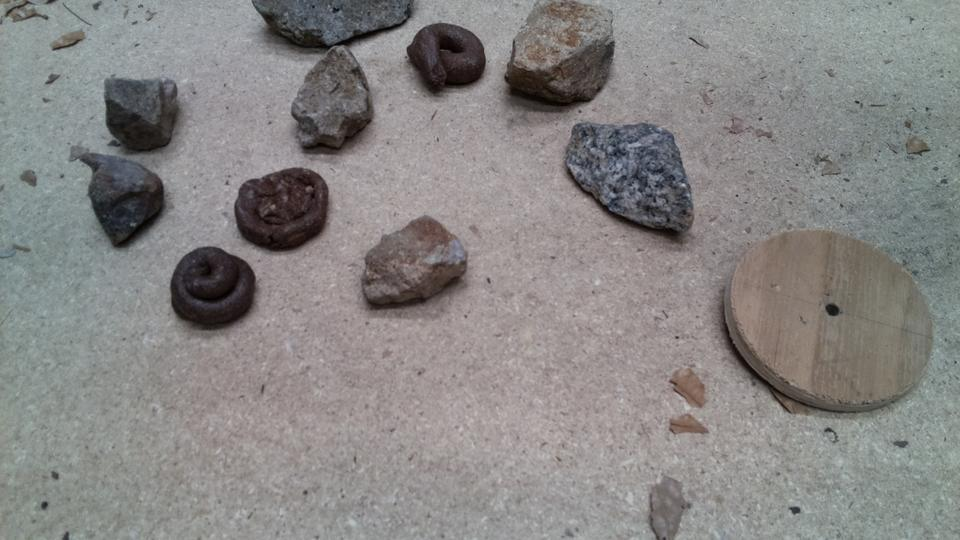poop: (228, 3, 311, 73)
